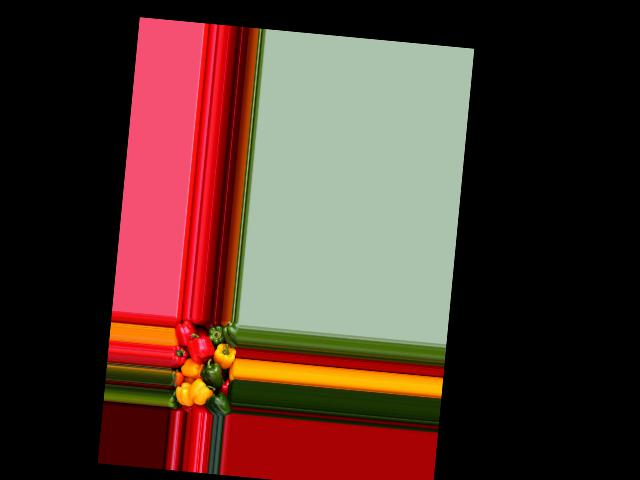bell_pepper: (167, 386, 180, 408)
